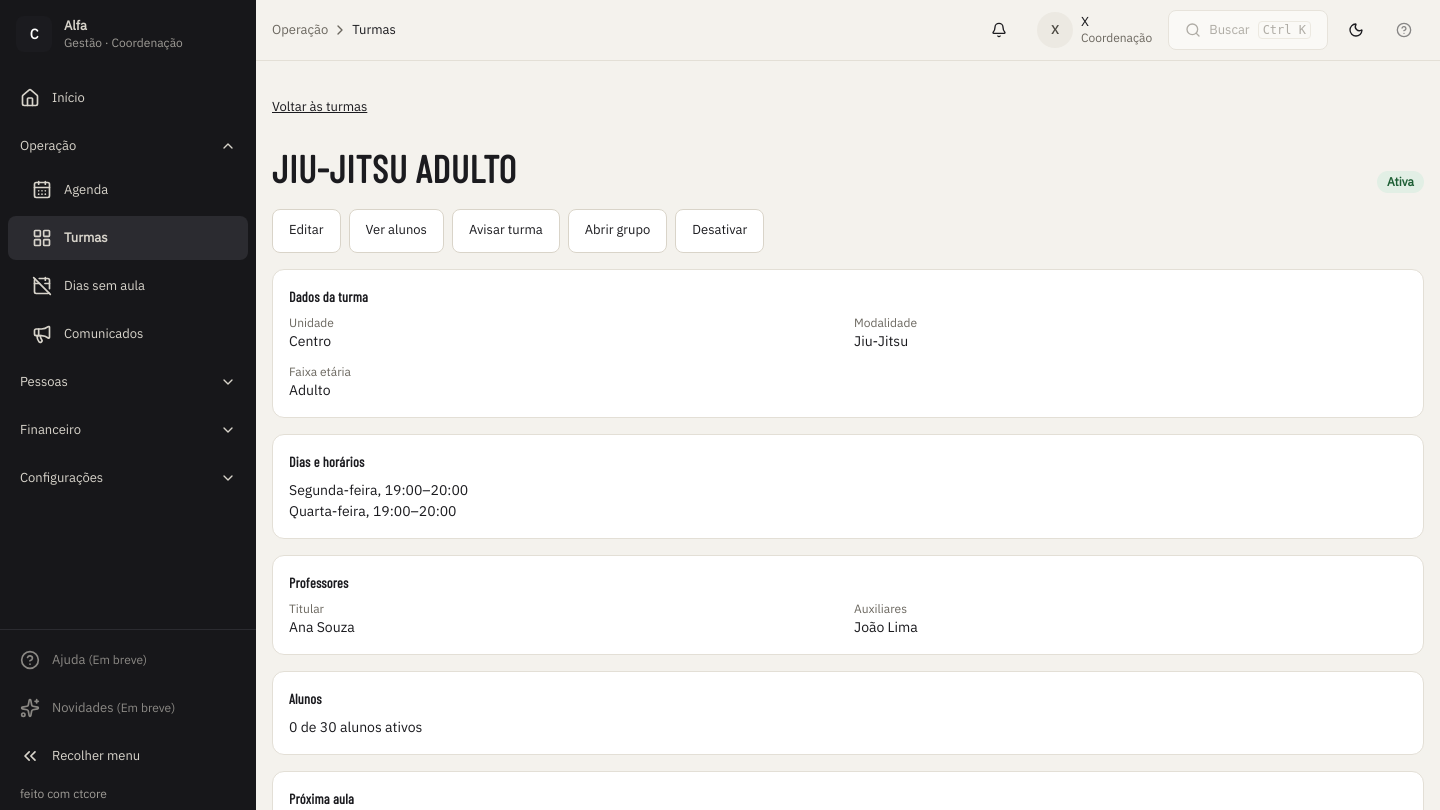
Test: ClassPanelPage (RF-TUR-02) › CA9: com alunos principais a janela mostra a recusa com a contagem e não oferece confirmar
The width and height of the screenshot is (1440, 810).
Click the button "Desativar" at (720, 230), box [675, 208, 764, 252]
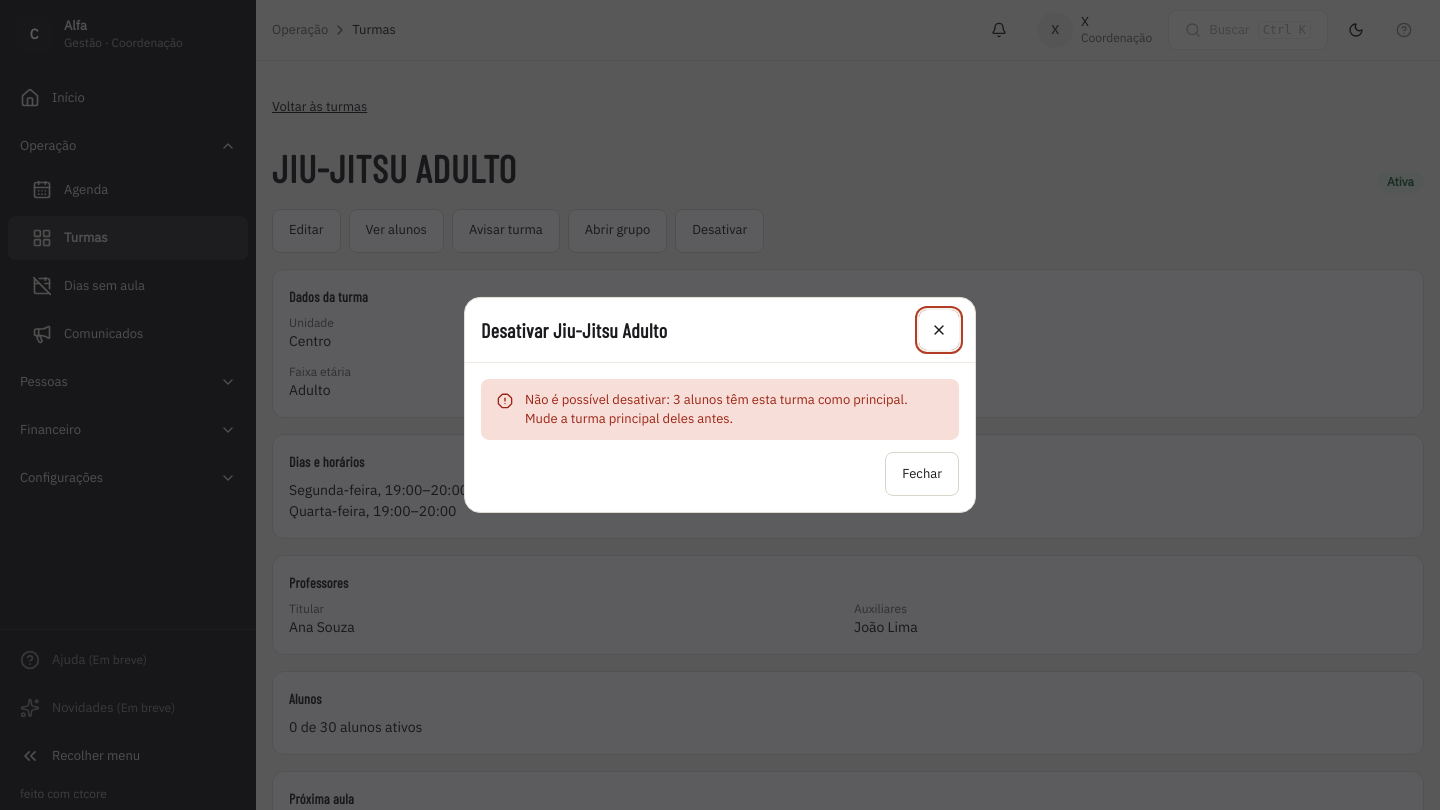
Result: the message shows "3 alunos têm esta turma como principal" at [525, 391, 908, 426]
